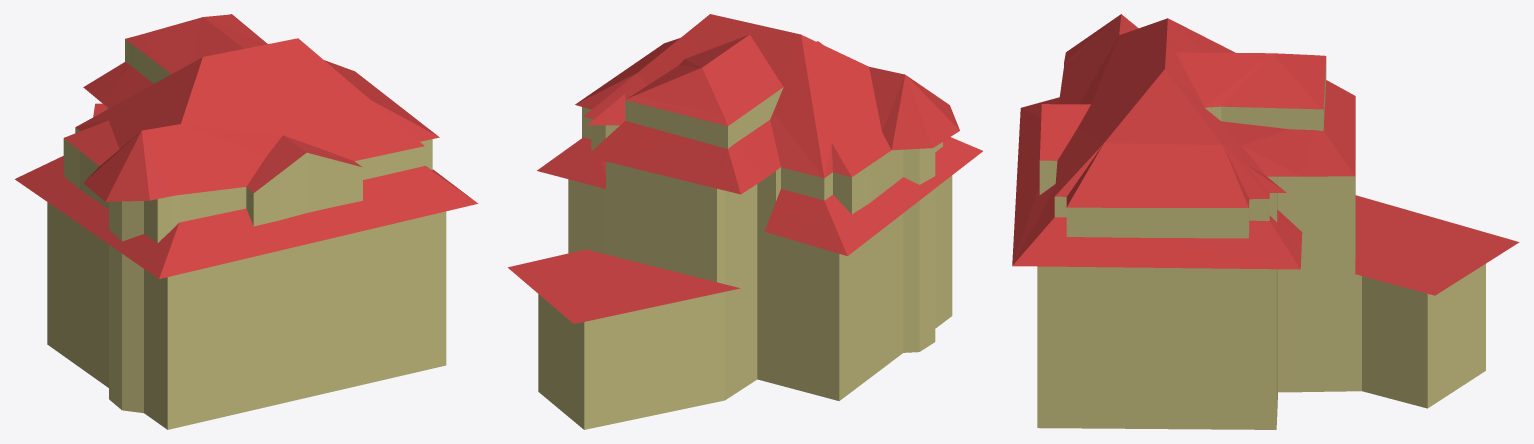
The picture shows the model from 3 angles, left to right: view 1: azimuth 30°, elevation 25°; view 2: azimuth 150°, elevation 25°; view 3: azimuth 270°, elevation 25°; orthographic projection. The views are drawn at different scales.
Visible parts, largest first — view 1: group_5, group_7, group_3, group_11, group_8, group_10, group_9; view 2: group_7, group_5, group_11, group_15, group_3, group_13, group_8, group_9, group_10, group_14; view 3: group_5, group_7, group_11, group_15, group_3, group_13, group_8, group_9, group_10, group_4, group_14.
Part boxes in pixels (x1,y1,x2,y2): group_5: (47, 202, 446, 429); group_7: (64, 38, 439, 201); group_3: (15, 156, 478, 278); group_11: (63, 107, 432, 242); group_8: (125, 14, 267, 73); group_10: (83, 69, 436, 201); group_9: (125, 39, 171, 83); group_7: (575, 14, 959, 194); group_5: (568, 175, 952, 400); group_11: (582, 107, 942, 401); group_15: (538, 293, 716, 429); group_3: (537, 137, 982, 255); group_13: (508, 249, 740, 323); group_8: (625, 34, 783, 126); group_9: (625, 87, 783, 148); group_10: (577, 43, 957, 192); group_14: (509, 249, 585, 267); group_5: (1037, 214, 1277, 429); group_7: (1039, 14, 1355, 207); group_11: (1039, 160, 1355, 399); group_15: (1355, 264, 1485, 408); group_3: (1012, 97, 1302, 269); group_13: (1355, 195, 1519, 295); group_8: (1175, 52, 1326, 109); group_9: (1182, 57, 1326, 131); group_10: (1066, 43, 1355, 207); group_4: (1012, 236, 1127, 265); group_14: (1356, 274, 1434, 295).
Size of the model in its own units: 16.37 by 20.7 by 14.33.
